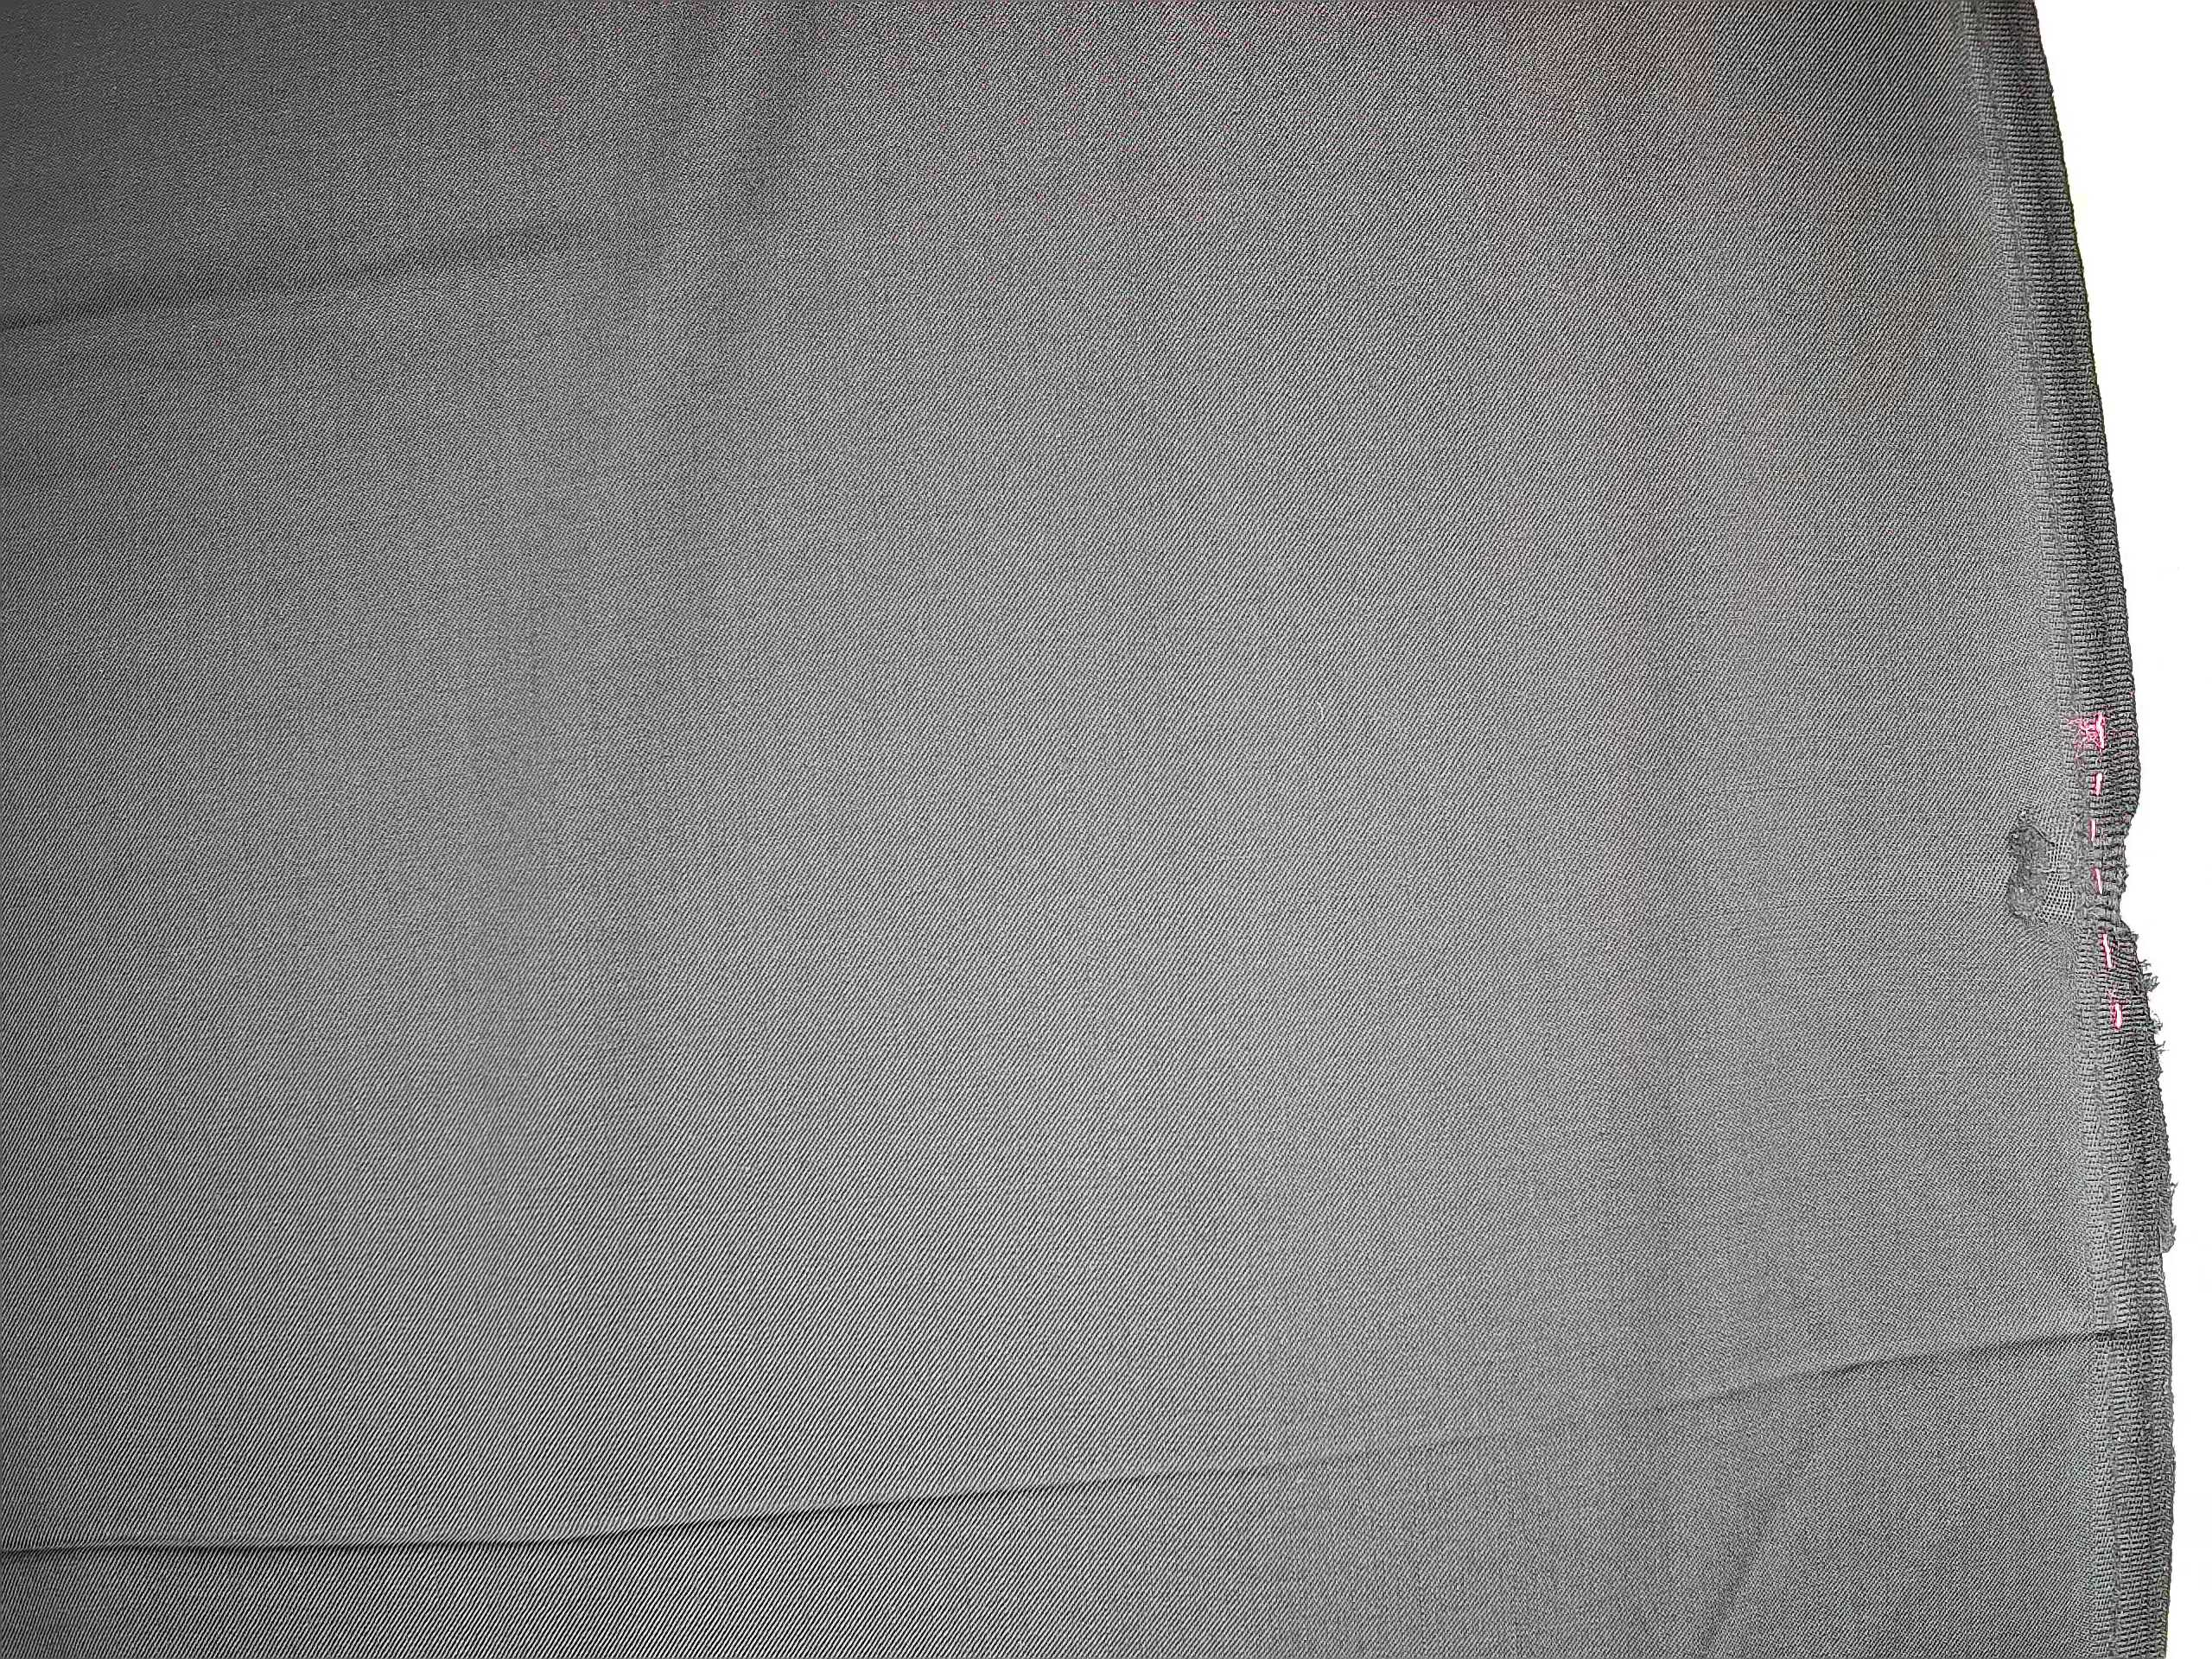others: (1994, 777, 2080, 962)
